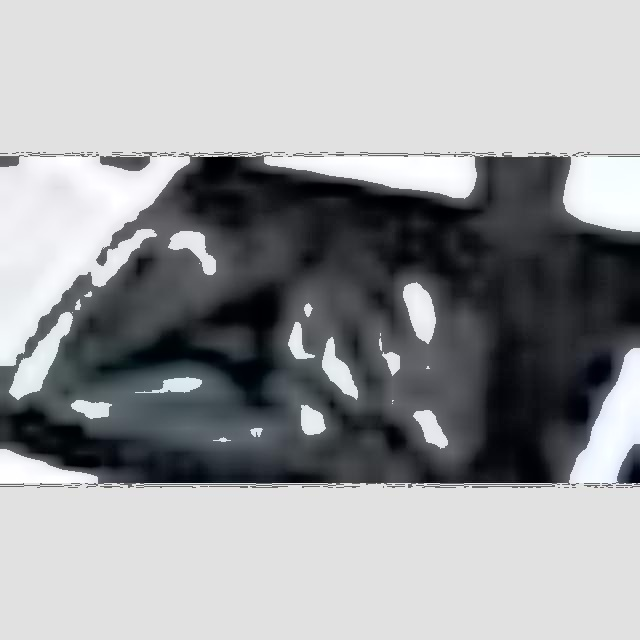pakai: (242, 254, 471, 447)
